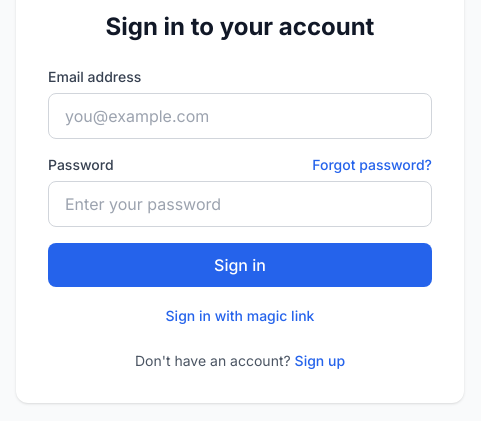
Test: LoginForm › switches to magic link mode and hides password field
Step 1. Click the button "Sign in with magic link" → (240, 316), box [166,306,314,326]
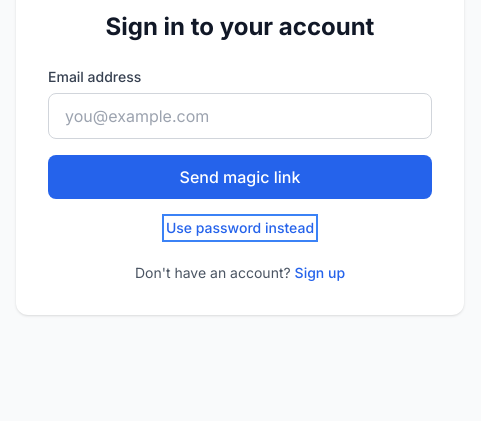
Result: the button "Send magic link" is shown at [48,155,432,199]
